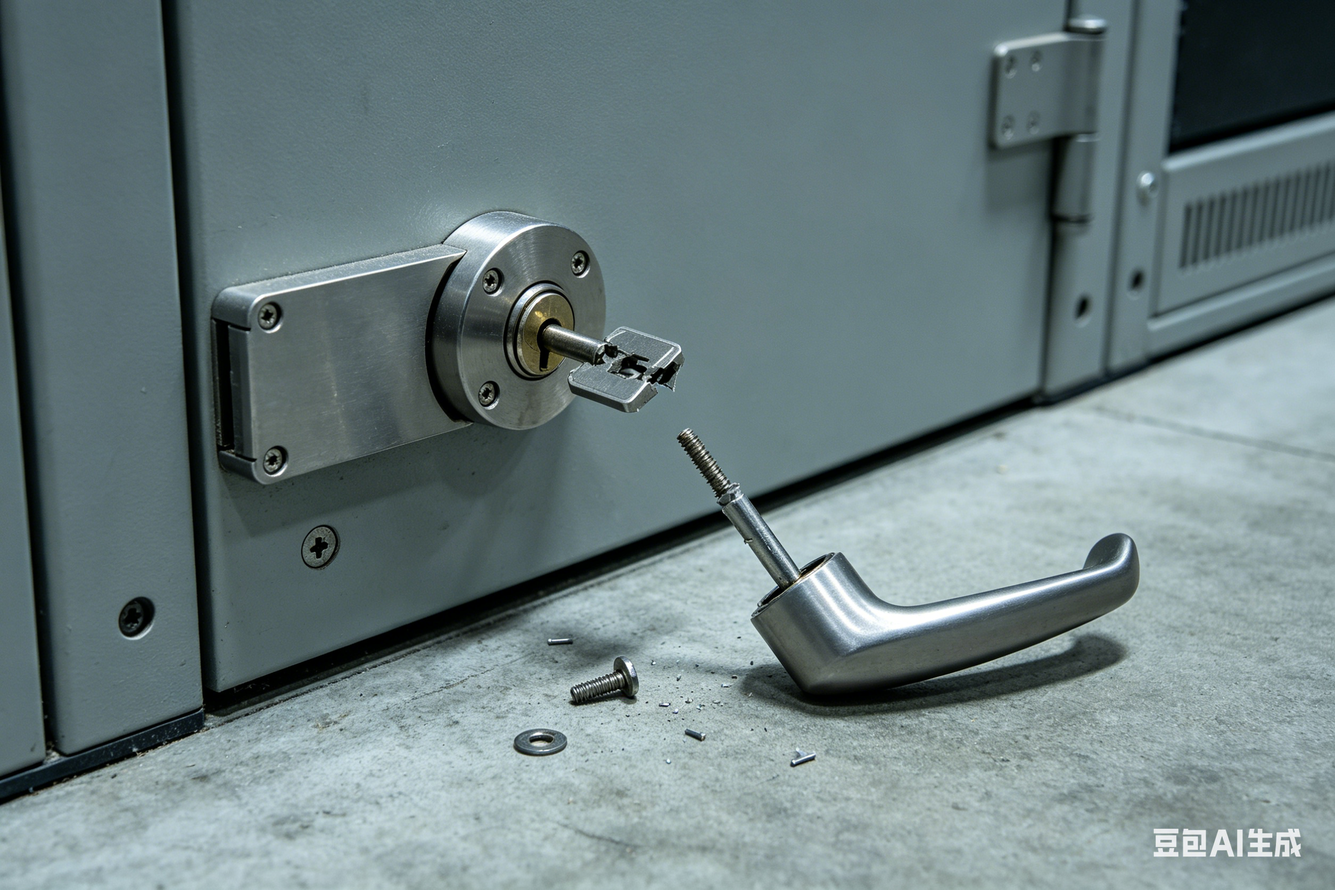BadLock: (545, 317, 685, 423)
